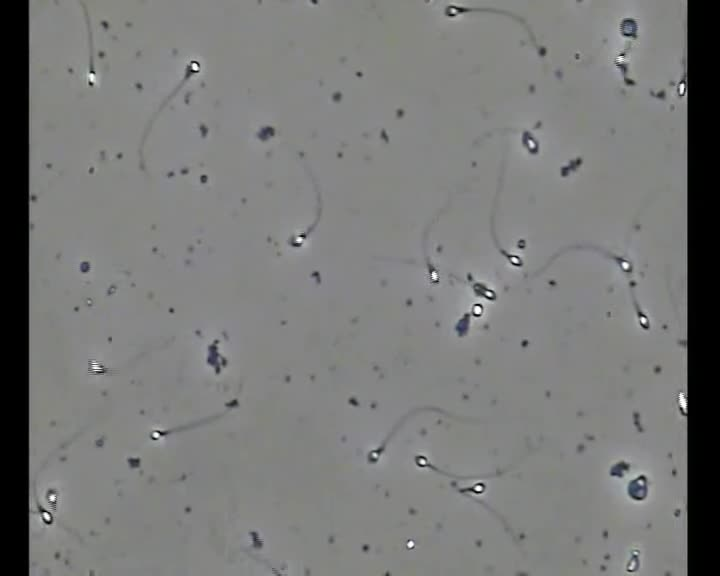spermhead: (472, 282, 496, 300), (522, 130, 538, 154), (444, 2, 469, 17), (620, 17, 637, 39), (184, 59, 200, 79), (614, 51, 628, 72), (88, 360, 107, 374), (506, 252, 523, 267), (617, 257, 632, 273), (289, 233, 306, 247), (150, 427, 168, 440), (367, 447, 381, 463), (40, 508, 53, 525), (677, 391, 686, 415), (677, 75, 686, 97), (415, 454, 429, 468), (46, 488, 57, 505), (638, 312, 649, 329), (471, 481, 485, 494), (471, 302, 483, 317), (429, 266, 439, 283), (87, 69, 96, 86)
